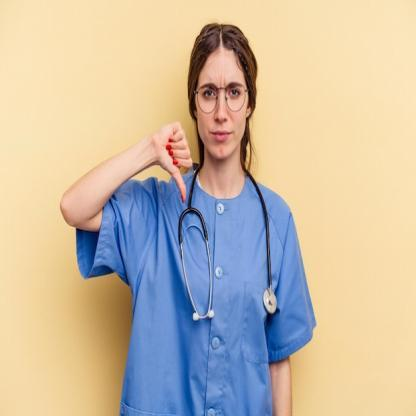thumb_down: (152, 118, 194, 206)
